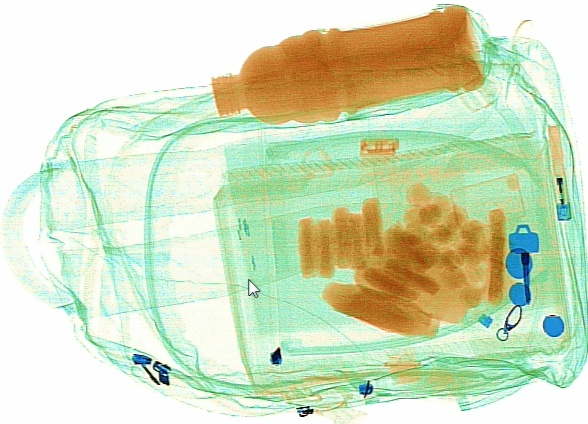lighter: (543, 122, 571, 221)
